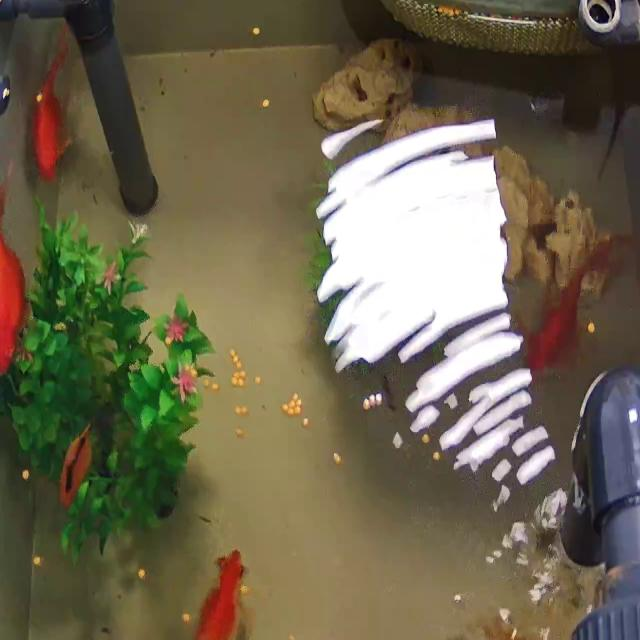fish: (523, 232, 636, 372), (48, 411, 115, 524), (179, 550, 251, 640), (32, 26, 72, 181), (0, 177, 28, 377)
